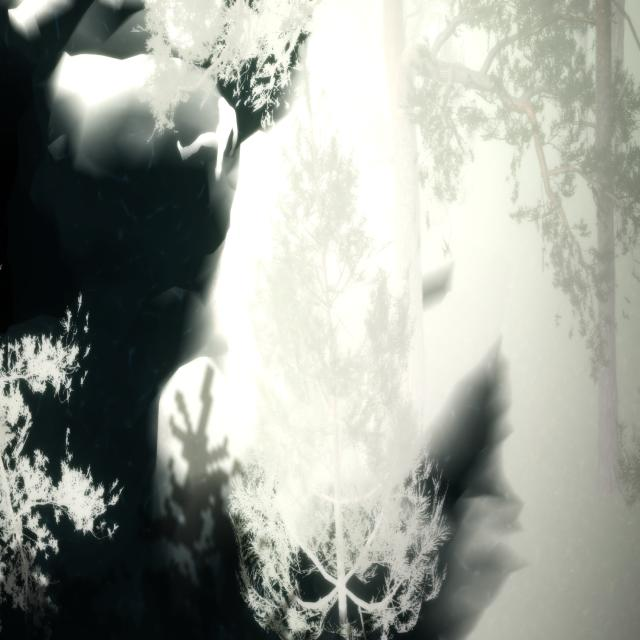Human: (174, 88, 238, 179)
